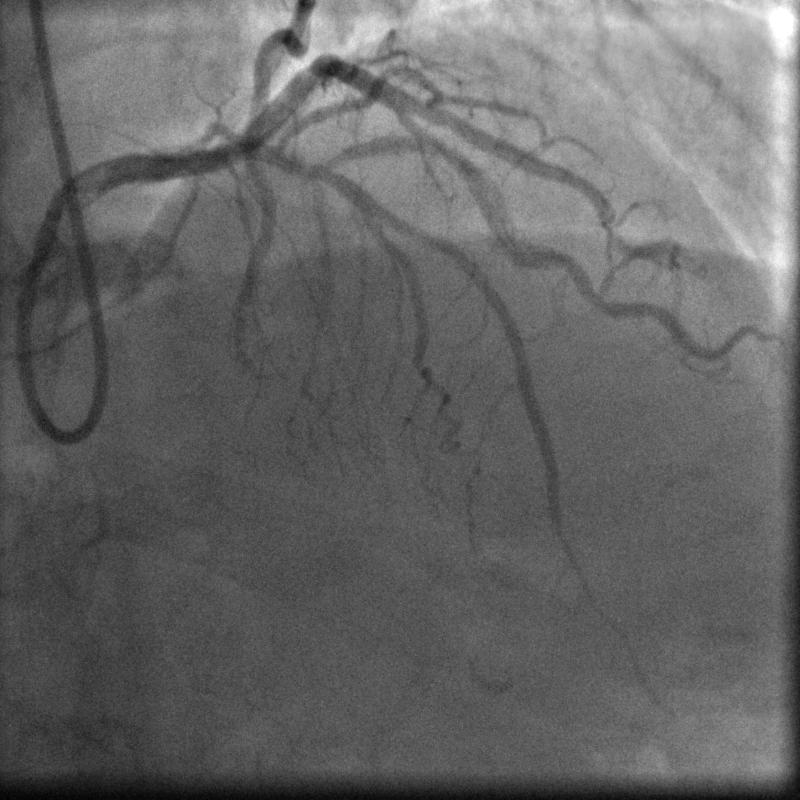Stenosis: (431, 130, 475, 178)
